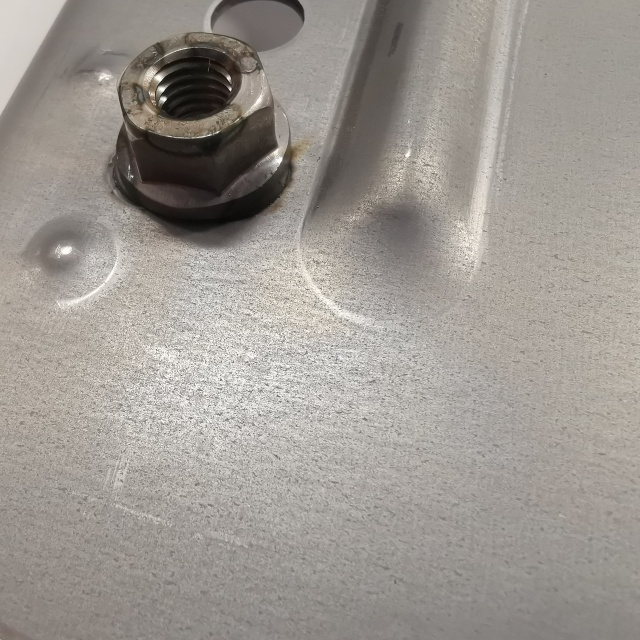dog: (109, 29, 299, 230)
